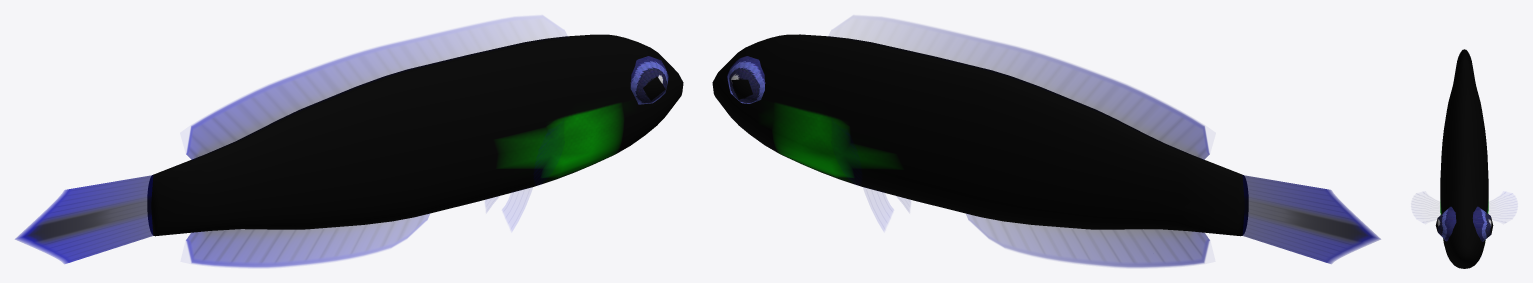
Rendered from dottyback_lod1.glb.
3 views of the same model, side by side, from view 1: azimuth 30°, elevation 25°; view 2: azimuth 150°, elevation 25°; view 3: azimuth 270°, elevation 25° (orthographic). The views are drawn at different scales.
Parts seen in each view (by area): view 1: Body, FinDorsal, FinCaudal, FinAnal, EyeR; view 2: Body, FinDorsal, FinCaudal, FinAnal, EyeL; view 3: Body, EyeL, EyeR.
Part boxes in pixels (x1,y1,x2,y2): Body: [147, 34, 683, 236]; FinDorsal: [186, 16, 550, 159]; FinCaudal: [15, 175, 153, 263]; FinAnal: [186, 214, 429, 267]; EyeR: [630, 56, 668, 104]; Body: [712, 34, 1248, 236]; FinDorsal: [845, 16, 1209, 159]; FinCaudal: [1242, 175, 1380, 263]; FinAnal: [966, 214, 1209, 267]; EyeL: [727, 56, 765, 103]; Body: [1440, 49, 1488, 268]; EyeL: [1472, 206, 1493, 241]; EyeR: [1435, 206, 1456, 241].
Size of the model in its own units: 1 by 0.2973 by 0.2009.
4 materials, 3 textured.
